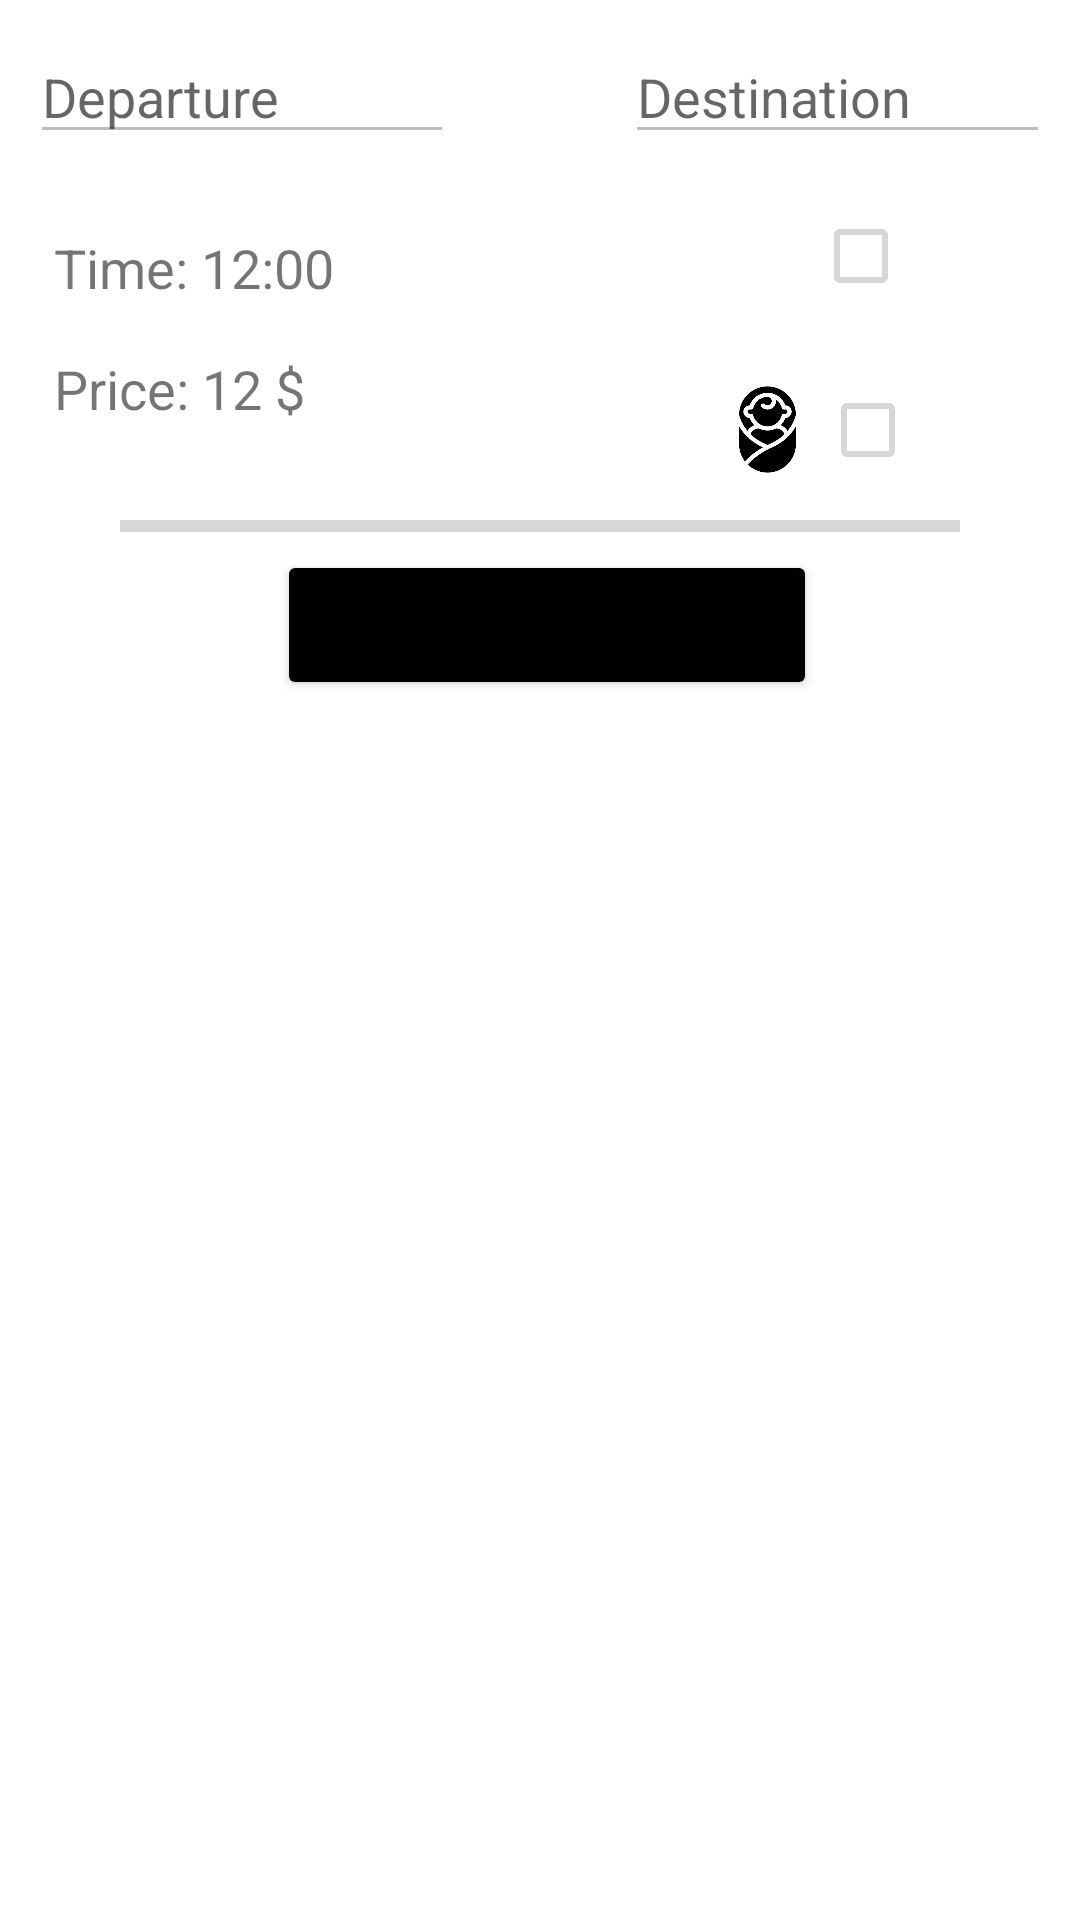

Icon bounding boxes for this 1080px×1920px phone screenshot, format (x1, y1, x2, y2):
baby: (739, 386, 796, 473)
